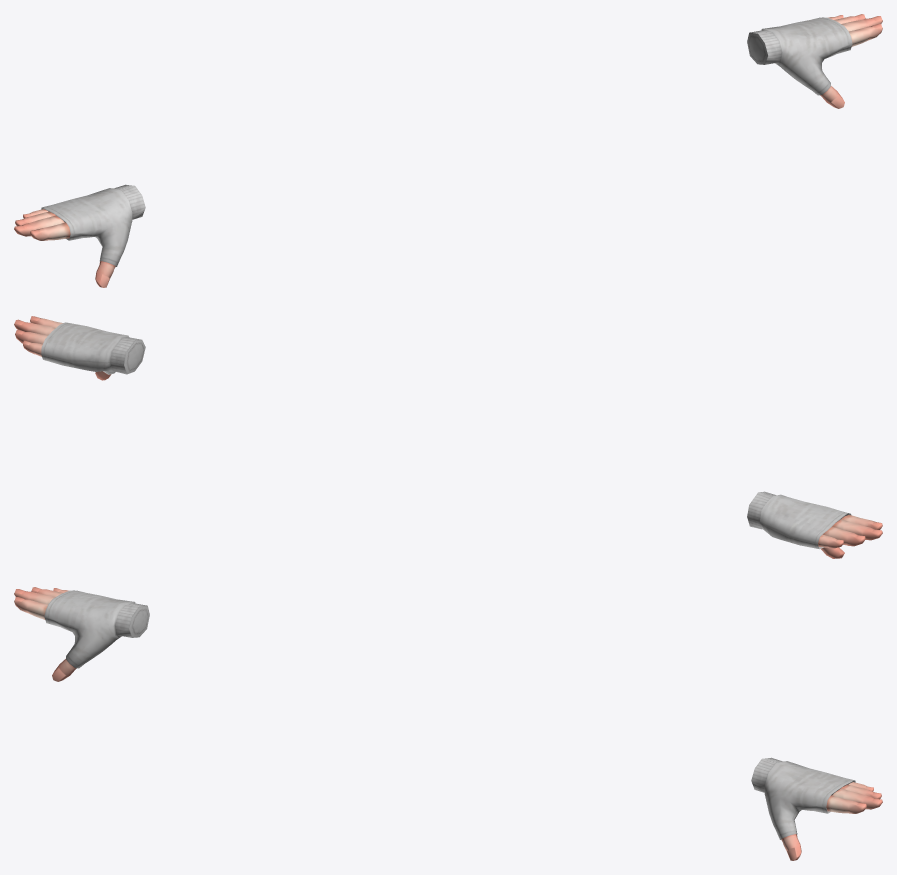
Rendered from p0_glv0003_00_glv00.gltf.
The picture shows the model from 3 angles, top to bottom: view 1: azimuth 30°, elevation 25°; view 2: azimuth 150°, elevation 25°; view 3: azimuth 330°, elevation 25°; orthographic projection.
Parts seen in each view (by area): view 1: glove_mesh_shape:glove, glove_skin_mesh_shape:glove_skin; view 2: glove_mesh_shape:glove, glove_skin_mesh_shape:glove_skin; view 3: glove_mesh_shape:glove, glove_skin_mesh_shape:glove_skin.
Part boxes in pixels (left/top/right/bottom): glove_mesh_shape:glove: left=41, top=17, right=852, bottom=266; glove_skin_mesh_shape:glove_skin: left=14, top=14, right=882, bottom=287; glove_mesh_shape:glove: left=41, top=322, right=851, bottom=549; glove_skin_mesh_shape:glove_skin: left=14, top=316, right=882, bottom=558; glove_mesh_shape:glove: left=44, top=590, right=855, bottom=839; glove_skin_mesh_shape:glove_skin: left=14, top=587, right=882, bottom=860.
Size of what is drawn, in the model's own units: 1.36 by 0.1055 by 0.1197.
Materials: 2 (2 with a texture image).
